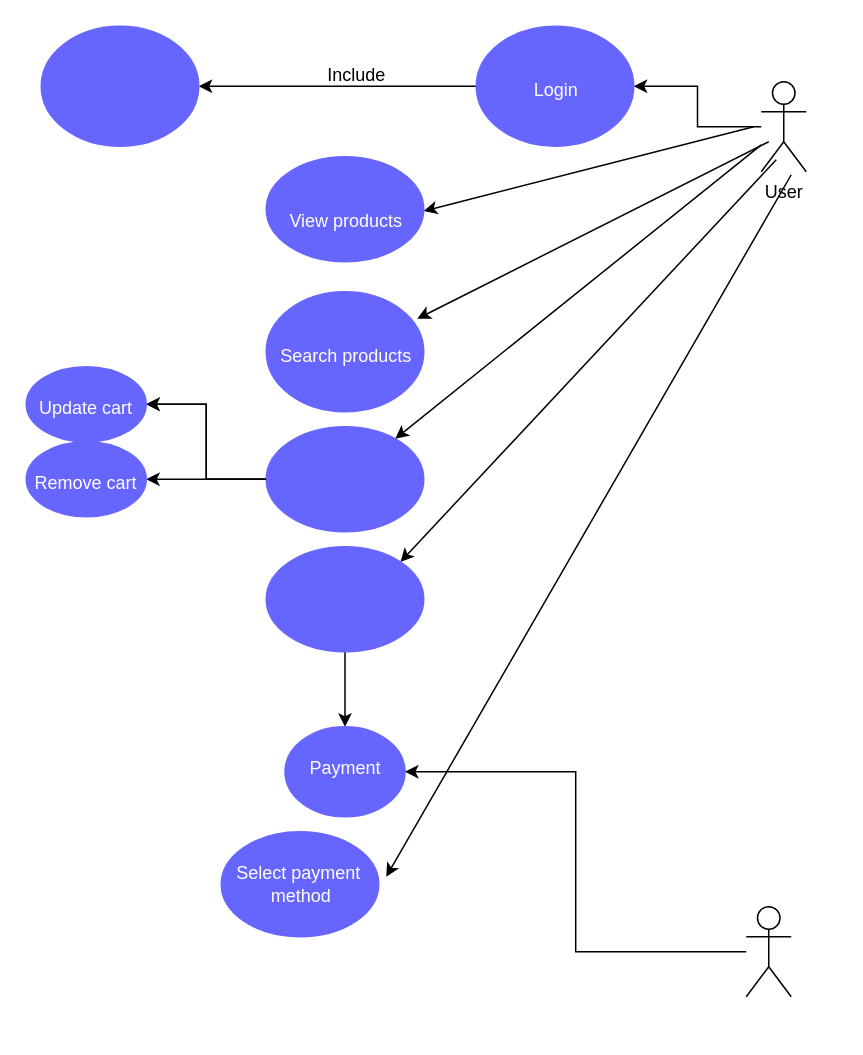
The diagram is 863 pixels wide and 1055 high, and some of its shapes have lost their labels. Each missing label, with the centre of its shape:
adding items to the cart: [344,478]
Payment System: [768,951]
place an order: [344,598]
Register: [119,85]
